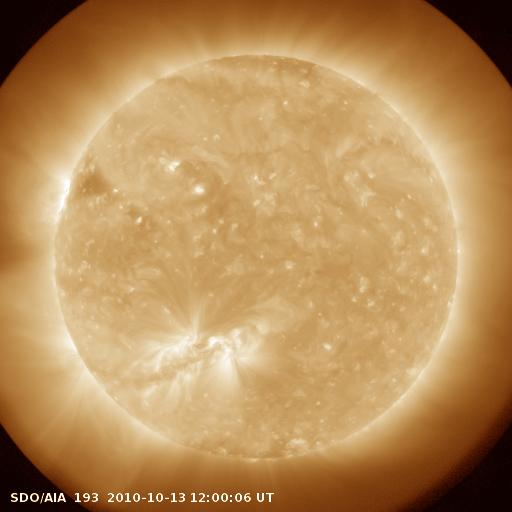coronal_hole: (61, 149, 123, 208)
